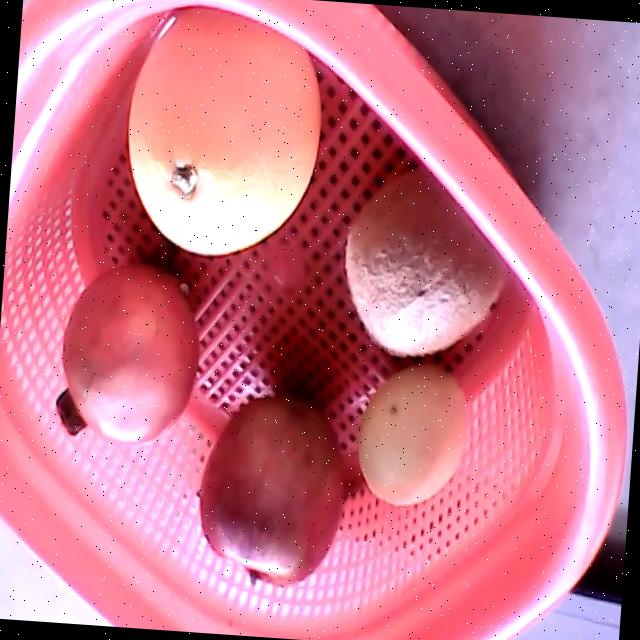apple: (198, 395, 342, 587)
kiwi: (343, 165, 508, 355)
lemon: (356, 364, 467, 504)
orange: (126, 4, 320, 255)
pomegranate: (54, 262, 199, 444)
